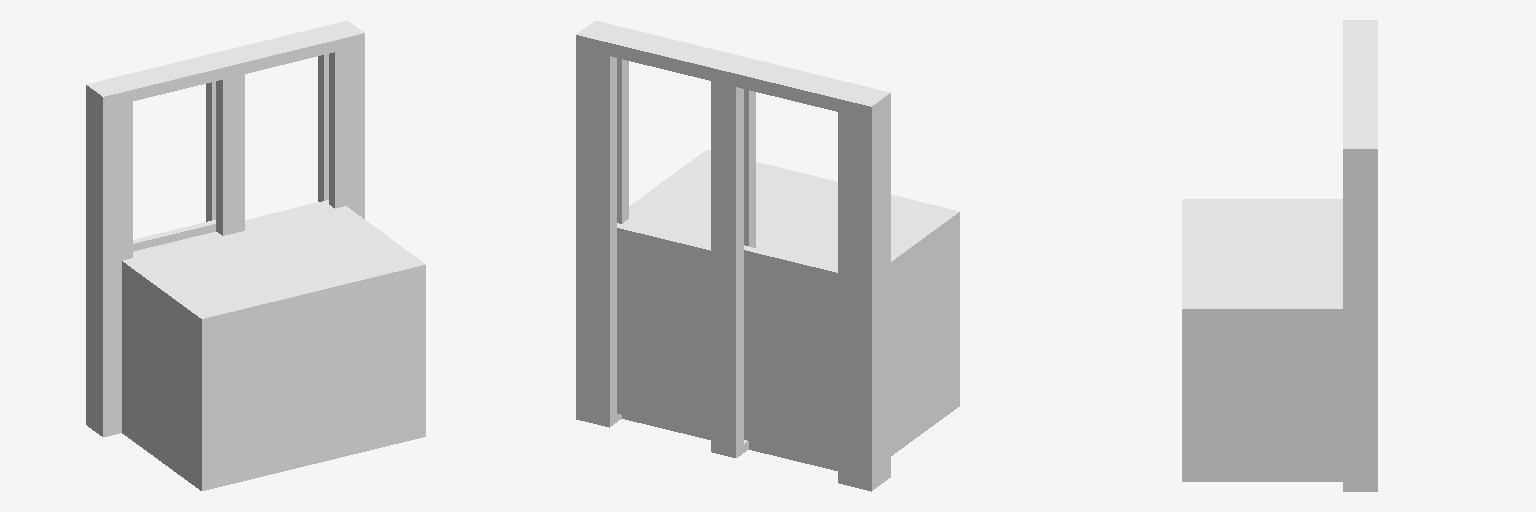
The robot description file, URDF, robot "oven":
<?xml version="1.0" encoding="utf-8"?>
<!-- This URDF was automatically created by SolidWorks to URDF Exporter! Originally created by Stephen Brawner (brawner@gmail.com) 
     Commit Version: 1.6.0-4-g7f85cfe  Build Version: 1.6.7995.38578
     For more information, please see http://wiki.ros.org/sw_urdf_exporter -->
<robot
  name="oven">
  <link
    name="base_link">
    <inertial>
      <origin
        xyz="2.1229487224144 2.03287980818804 1.46609629127649"
        rpy="0 0 0" />
      <mass
        value="6492.8" />
      <inertia
        ixx="11893.4361175559"
        ixy="5.50128415819595E-13"
        ixz="1.4268629813089E-12"
        iyy="15467.445949932"
        iyz="-2053.85510850481"
        izz="10981.7811809572" />
    </inertial>
    <visual>
      <origin
        xyz="0 0 0"
        rpy="0 0 0" />
      <geometry>
        <mesh
          filename="package://oven/meshes/base_link.STL" />
      </geometry>
      <material
        name="">
        <color
          rgba="1 1 1 1" />
      </material>
    </visual>
    <collision>
      <origin
        xyz="0 0 0"
        rpy="0 0 0" />
      <geometry>
        <mesh
          filename="package://oven/meshes/base_link.STL" />
      </geometry>
    </collision>
  </link>
  <link
    name="left">
    <inertial>
      <origin
        xyz="-0.750000000000001 0.199999999999999 -1.1719387755102"
        rpy="0 0 0" />
      <mass
        value="285.6" />
      <inertia
        ixx="105.196"
        ixy="-7.99693644637533E-17"
        ixz="-3.40468394218382E-15"
        iyy="148.97848"
        iyz="-1.05896772832165E-16"
        izz="44.2584800000001" />
    </inertial>
    <visual>
      <origin
        xyz="0 0 0"
        rpy="0 0 0" />
      <geometry>
        <mesh
          filename="package://oven/meshes/left.STL" />
      </geometry>
      <material
        name="">
        <color
          rgba="1 1 1 1" />
      </material>
    </visual>
    <collision>
      <origin
        xyz="0 0 0"
        rpy="0 0 0" />
      <geometry>
        <mesh
          filename="package://oven/meshes/left.STL" />
      </geometry>
    </collision>
  </link>
  <joint
    name="left"
    type="prismatic">
    <origin
      xyz="2.1229 3.0969 2.3219"
      rpy="0 0 3.1416" />
    <parent
      link="base_link" />
    <child
      link="left" />
    <axis
      xyz="0 0 -1" />
    <limit
      lower="-2"
      upper="0"
      effort="0"
      velocity="0" />
  </joint>
  <link
    name="right">
    <inertial>
      <origin
        xyz="0.749999999999998 0.199999999999999 -1.07357534054746"
        rpy="0 0 0" />
      <mass
        value="285.6" />
      <inertia
        ixx="105.196"
        ixy="-1.7942684375309E-16"
        ixz="-2.5165055224837E-15"
        iyy="148.97848"
        iyz="2.80368321152017E-16"
        izz="44.2584800000001" />
    </inertial>
    <visual>
      <origin
        xyz="0 0 0"
        rpy="0 0 0" />
      <geometry>
        <mesh
          filename="package://oven/meshes/right.STL" />
      </geometry>
      <material
        name="">
        <color
          rgba="1 1 1 1" />
      </material>
    </visual>
    <collision>
      <origin
        xyz="0 0 0"
        rpy="0 0 0" />
      <geometry>
        <mesh
          filename="package://oven/meshes/right.STL" />
      </geometry>
    </collision>
  </link>
  <joint
    name="right"
    type="prismatic">
    <origin
      xyz="2.1229 3.0969 2.3219"
      rpy="0 0 3.1416" />
    <parent
      link="base_link" />
    <child
      link="right" />
    <axis
      xyz="0 0 -1" />
    <limit
      lower="-2"
      upper="0"
      effort="0"
      velocity="0" />
  </joint>
</robot>

--- What the picture shows (computed from the rendered views, not written in the file) ---
The picture shows the robot from 3 angles, left to right: view 1: azimuth 30°, elevation 25°; view 2: azimuth 150°, elevation 25°; view 3: azimuth 270°, elevation 25°; orthographic projection.
Model oven with 3 links and 2 joints (2 prismatic), rooted at base_link, posed all joints at 0.
Visible links, largest first — view 1: base_link, right; view 2: base_link, left, right; view 3: base_link.
Boxes of the visible links, box(x1,y1,x2,y2) form: base_link: box(86, 21, 425, 490); right: box(133, 220, 215, 251); base_link: box(576, 21, 959, 491); left: box(617, 223, 710, 435); right: box(744, 245, 837, 458); base_link: box(1182, 20, 1377, 491).
Bounding box of the posed robot: 3.5 × 2.25 × 4.35 m (x, y, z).
3 mesh visuals loaded from 3 distinct referenced files (3 binary STL).
